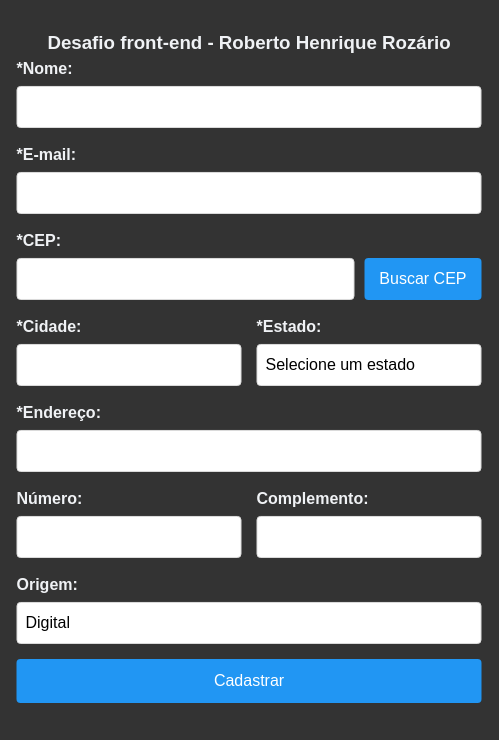
Test case: UserForm › mostra erro quando CEP é inválido
The image size is (499, 740).
Type "00000000" into the field with id "cep" at (185,279), box [16, 258, 354, 300]
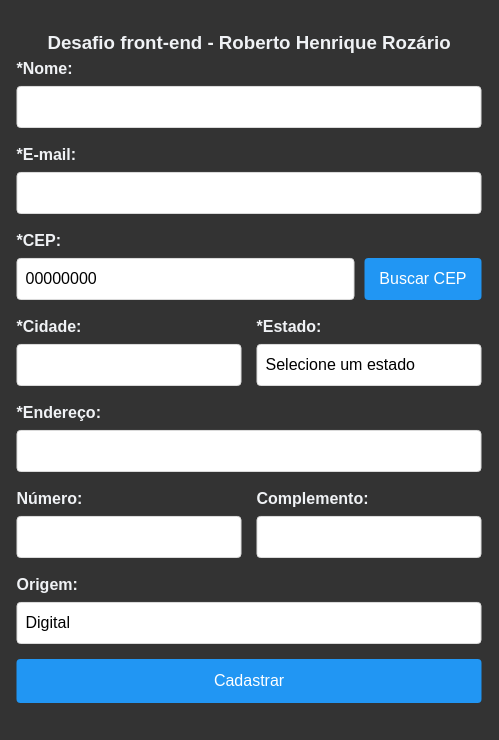
Click the button "Buscar CEP" at (423,279), box [364, 258, 482, 300]
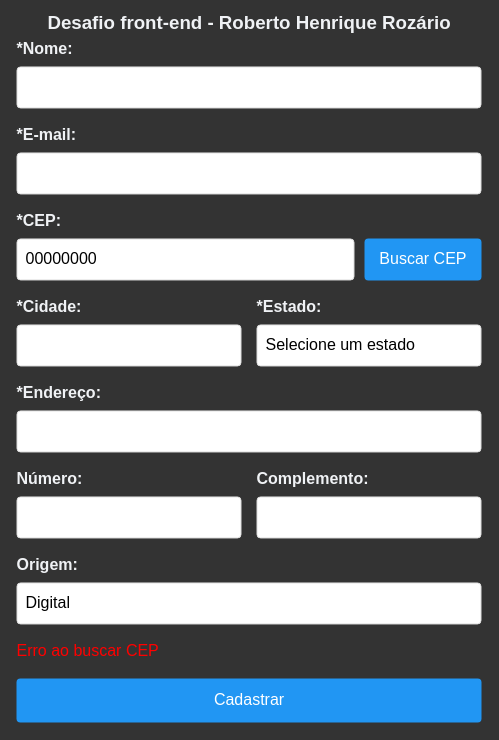
Expected: the text with class "error-message" reads "Erro ao buscar CEP", [16, 642, 159, 660]
